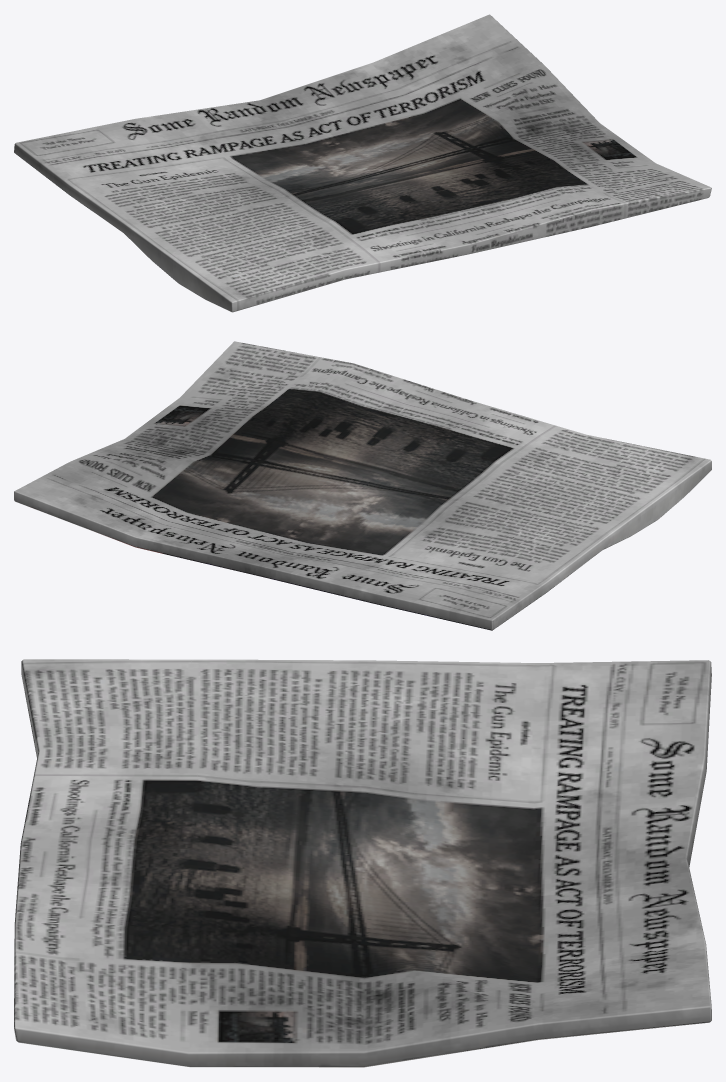
The model's file is SM_Newspaper03.glb.
3 renders of one model, top to bottom at view 1: azimuth 30°, elevation 25°; view 2: azimuth 150°, elevation 25°; view 3: azimuth 270°, elevation 25°, orthographic. The views are drawn at different scales.
Visible parts, largest first — view 1: SM_Newspaper03; view 2: SM_Newspaper03; view 3: SM_Newspaper03.
Boxes of the visible parts, x1=… form: SM_Newspaper03: x1=14, y1=14, x2=711, y2=312; SM_Newspaper03: x1=14, y1=341, x2=711, y2=630; SM_Newspaper03: x1=14, y1=659, x2=711, y2=1067.
Size of the model in its own units: 0.7524 by 0.0673 by 0.602.
1 material, 1 textured.
